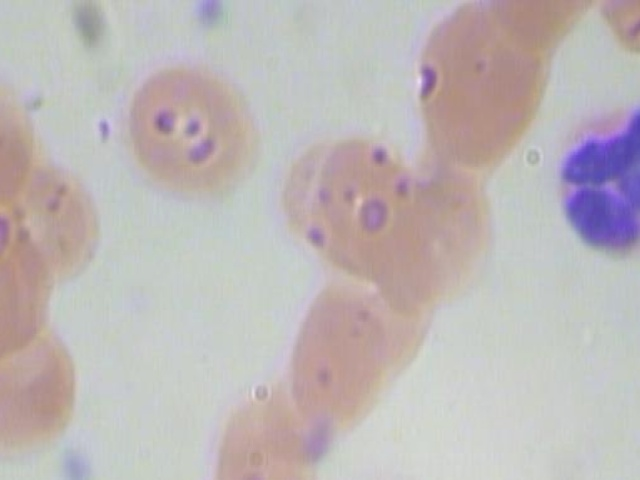Platelets: (49, 440, 101, 480), (179, 0, 231, 36)
RBC: (414, 0, 555, 179), (109, 57, 259, 206), (263, 282, 413, 431), (375, 161, 495, 302), (307, 137, 426, 278), (209, 391, 322, 480), (308, 452, 458, 480)
WBC: (552, 91, 640, 270)
